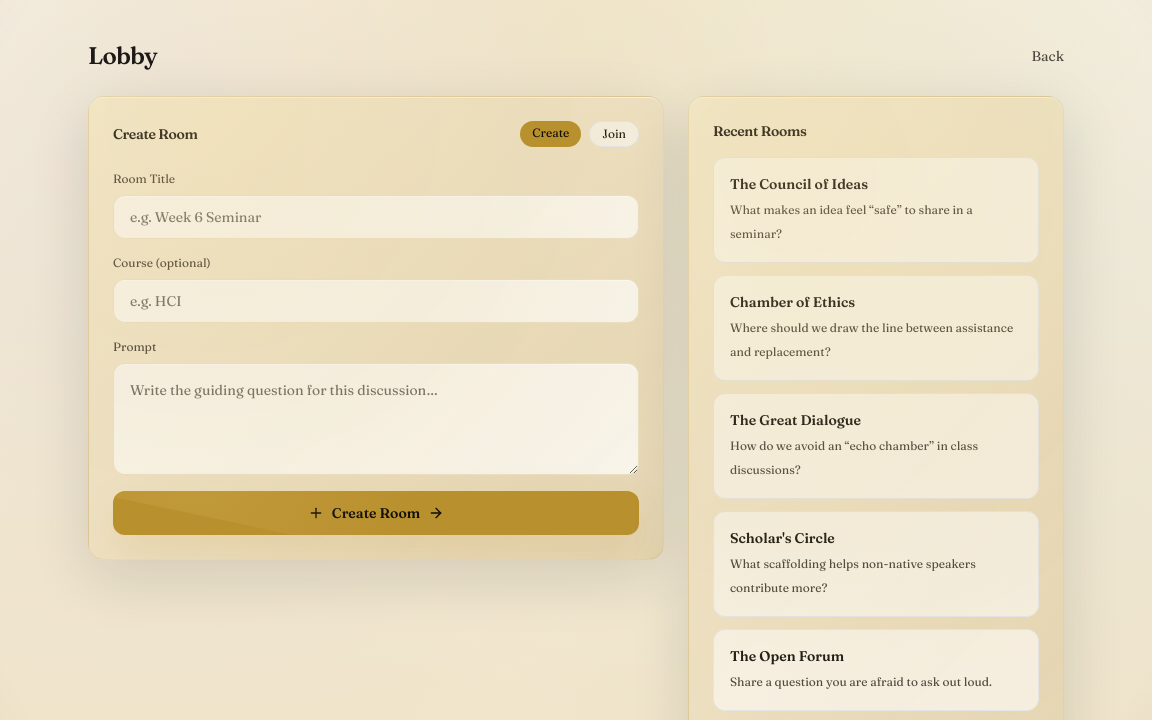
Test: can create a room from lobby and enter the room
Type "Week 6 Seminar" into the field labelled "Room Title" at x=376, y=217, box [113, 195, 639, 239]
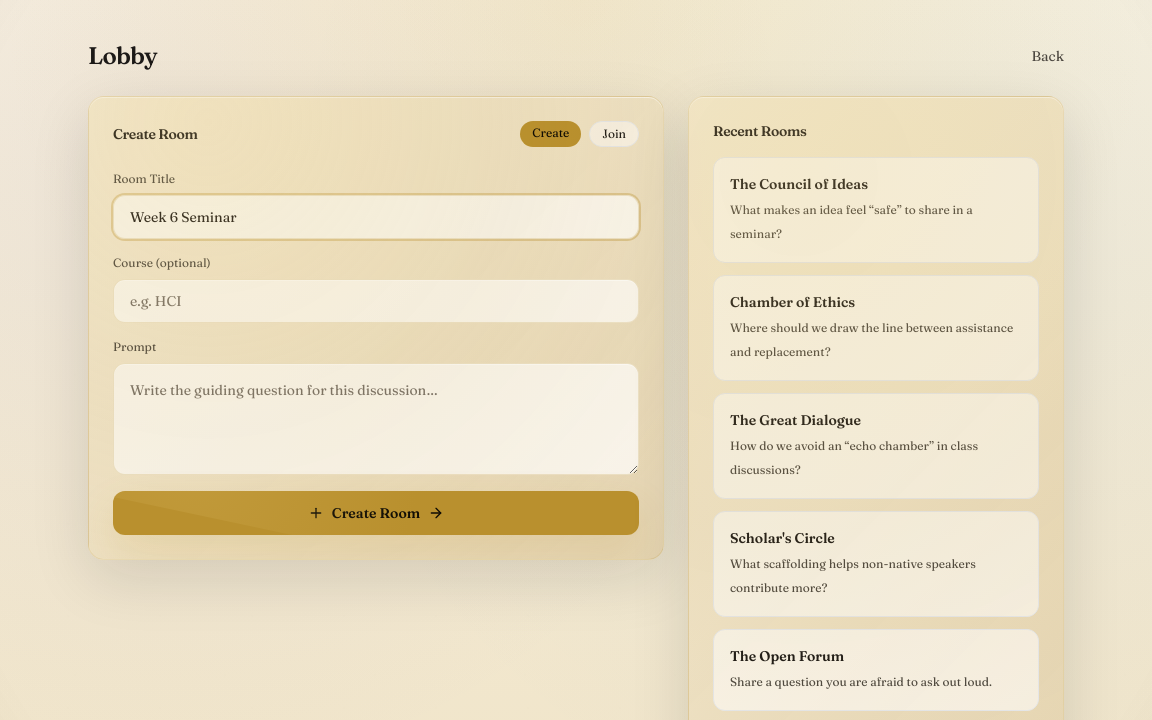
Type "What makes a classroom psychologically safe?" into the text box labelled "Prompt" at x=376, y=419, box [113, 363, 639, 475]
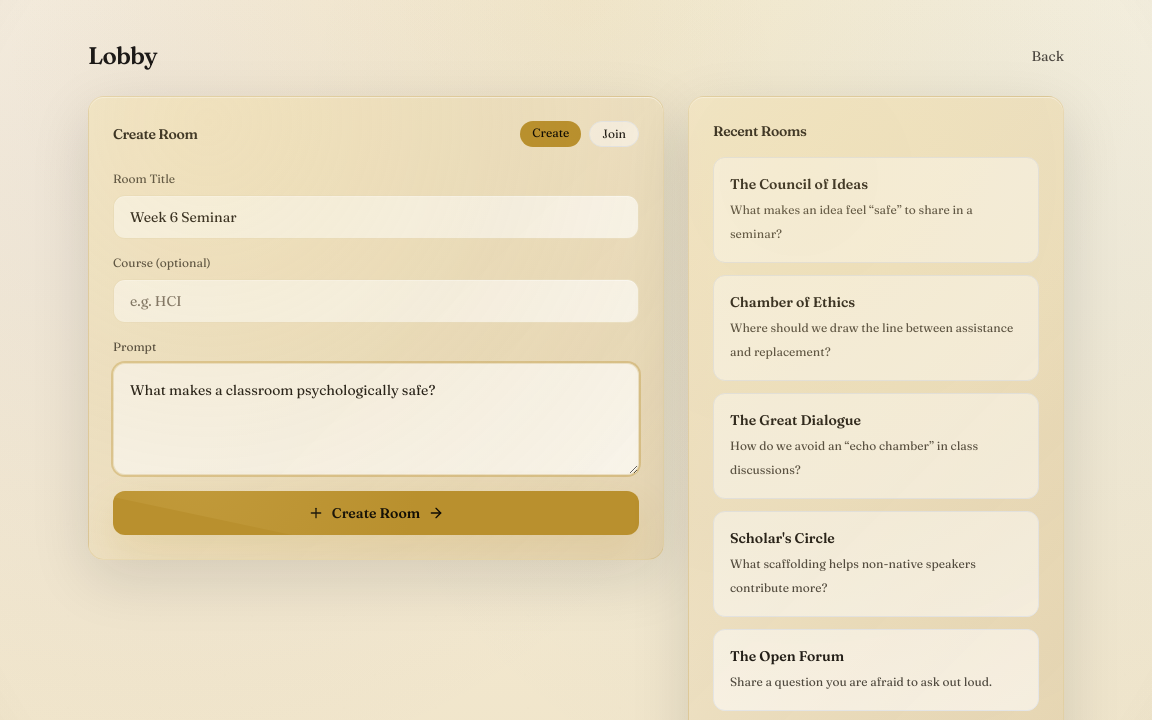
Click the button "Create Room" at x=376, y=513, box [113, 491, 639, 535]
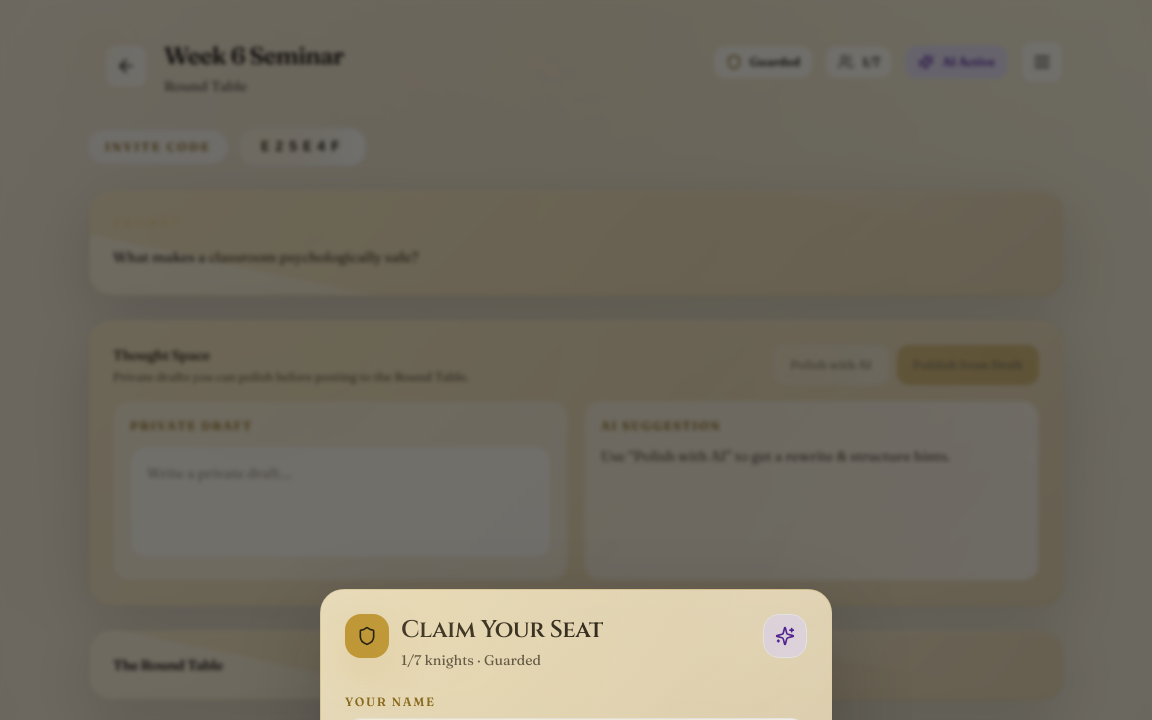
Check: the heading "Week 6 Seminar" is shown, box [164, 40, 344, 72]
Check: the text "What makes a classroom psychologically safe?" is shown, box [113, 248, 418, 266]
